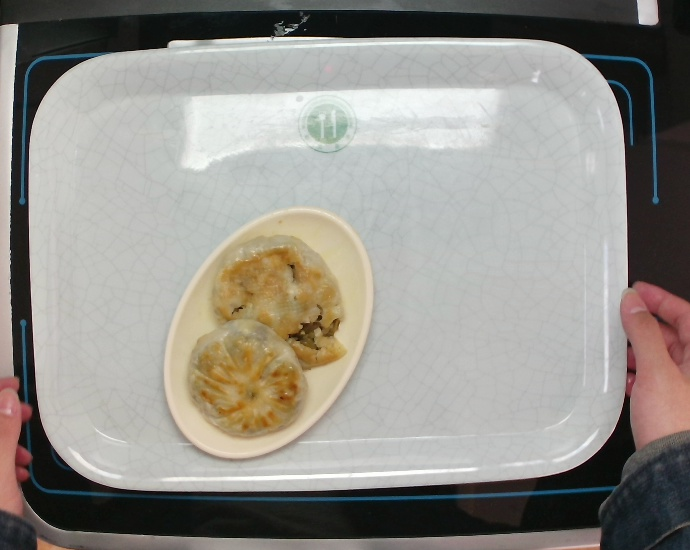JYsf-Tuo_Yuan_Wan: (159, 202, 377, 461)
